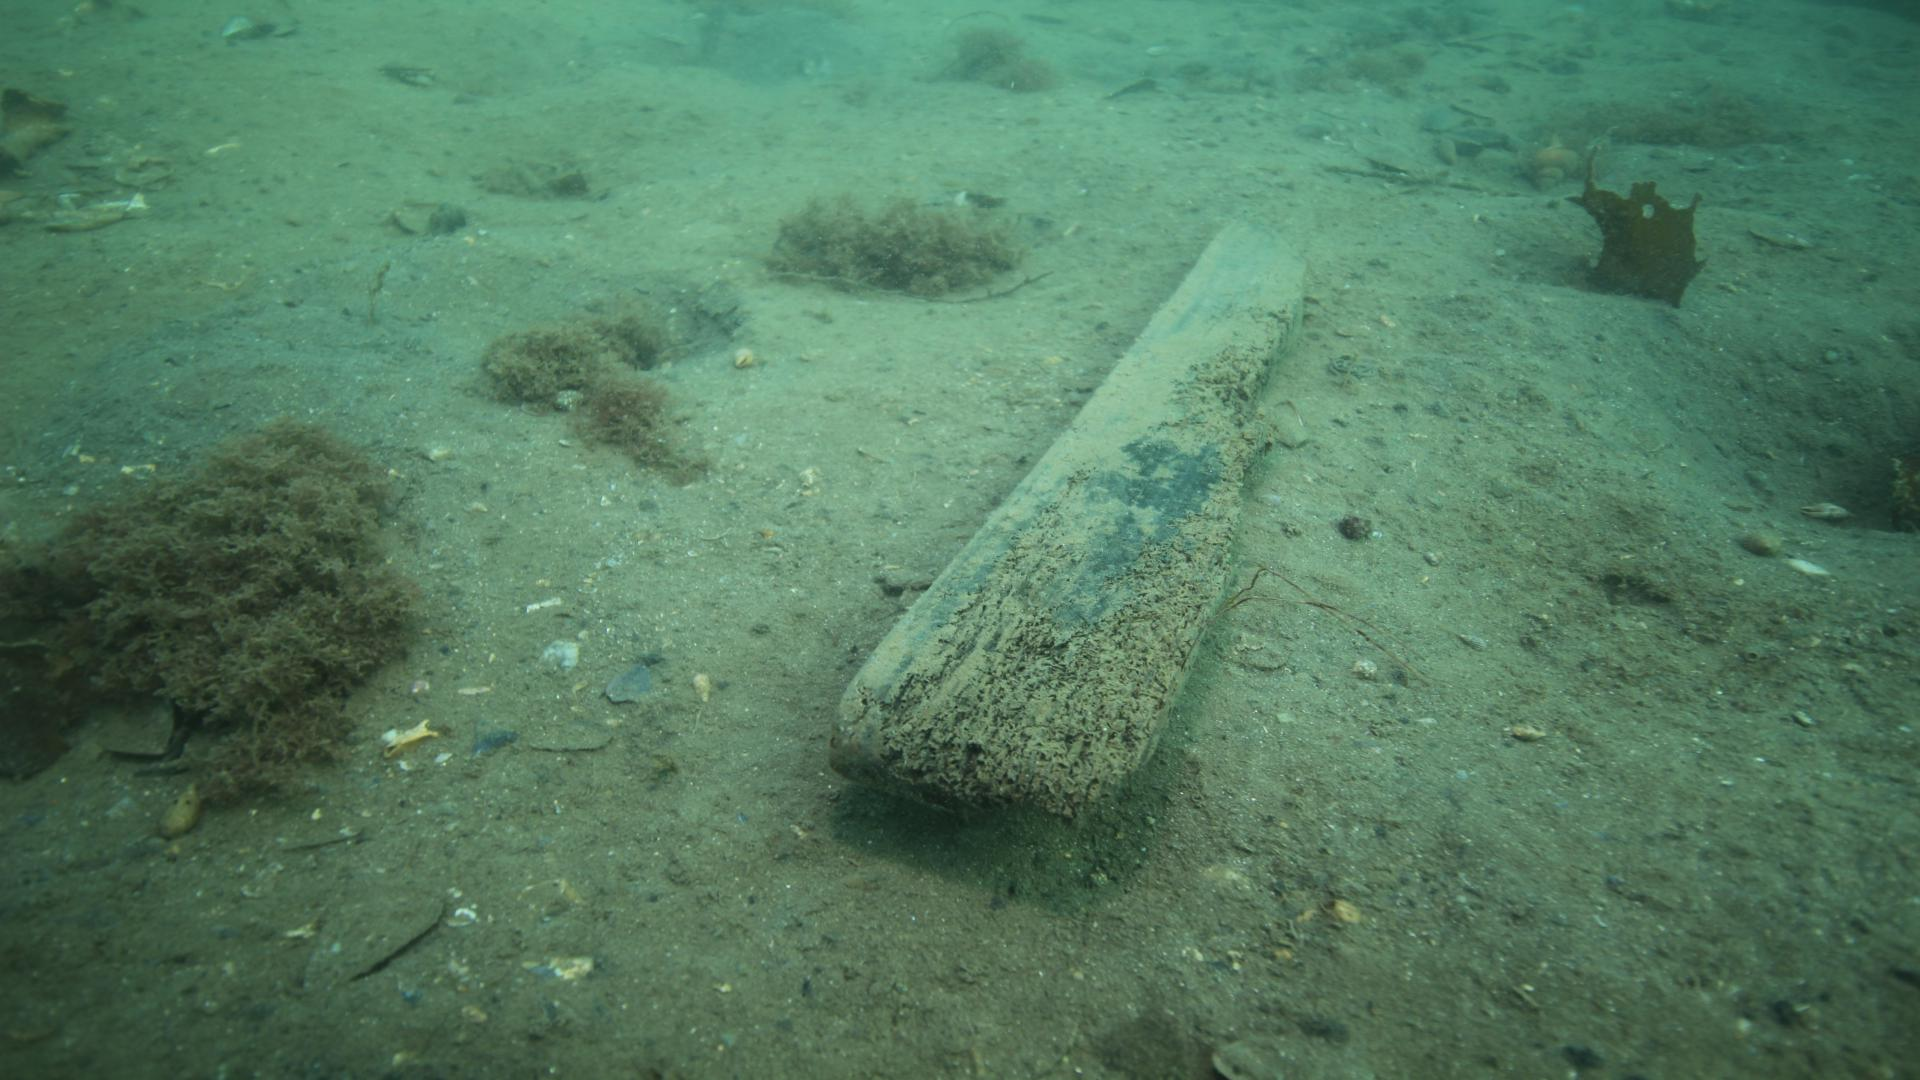wood: (827, 220, 1303, 815)
